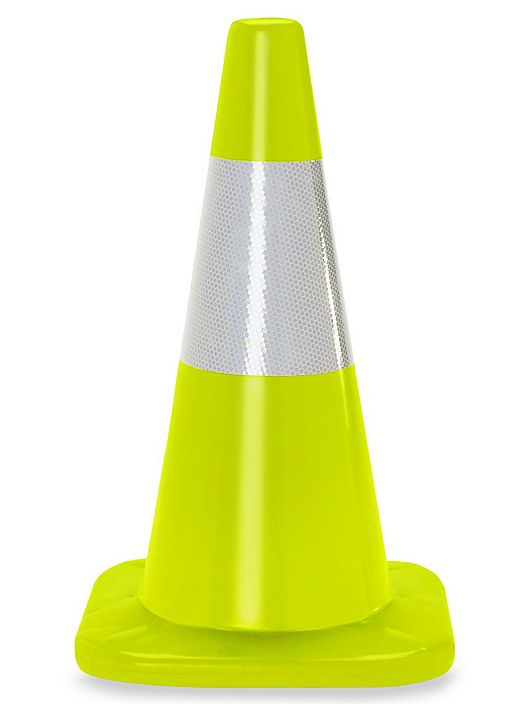cone: (71, 13, 459, 697)
